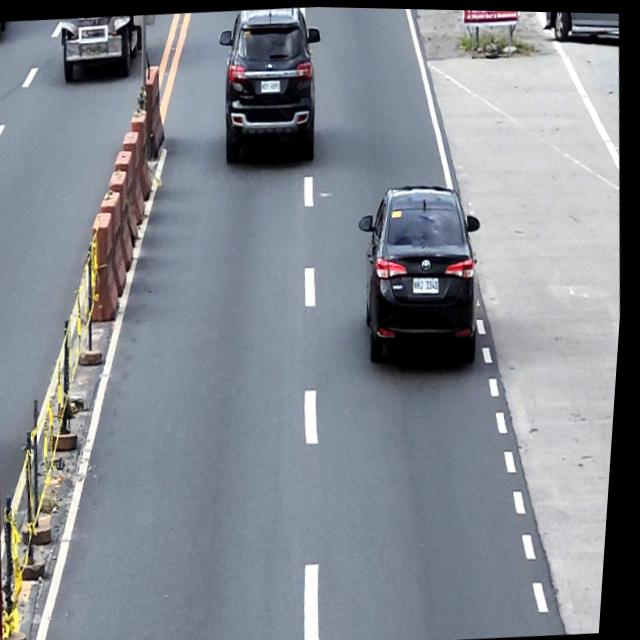Car: (351, 180, 496, 372), (210, 4, 331, 168), (541, 9, 619, 41)
Jeep: (59, 13, 149, 84)
License-Plate: (415, 273, 443, 292), (260, 78, 282, 92)
